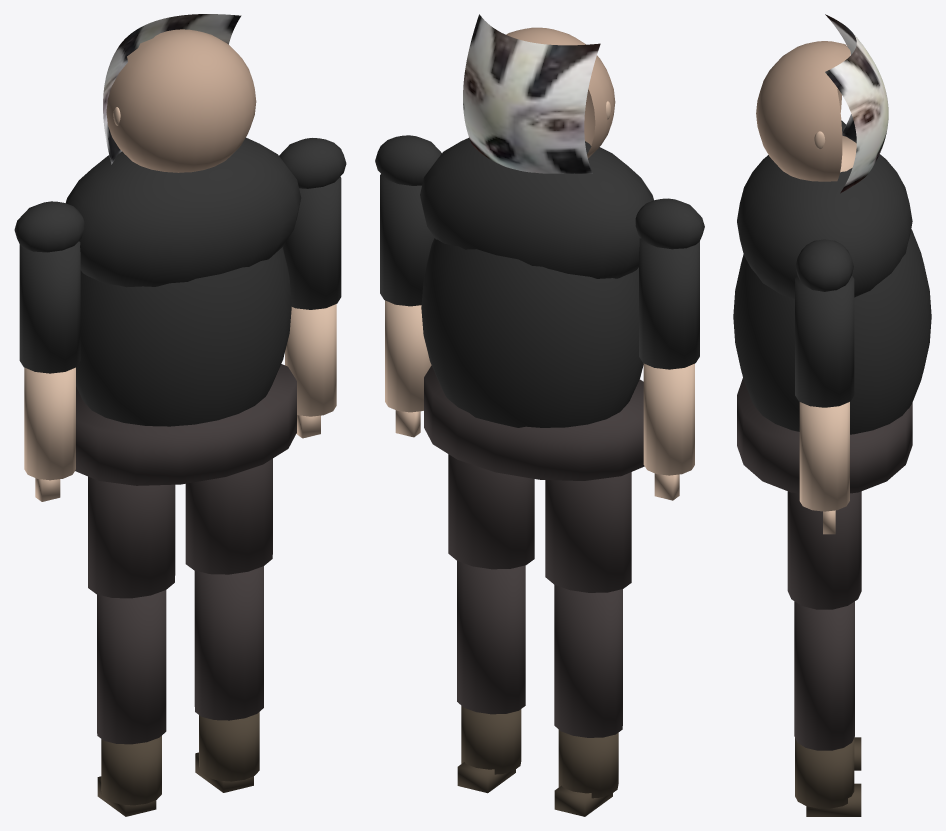
Rendered from villain_fat.glb.
3 views of the same model, side by side, from view 1: azimuth 30°, elevation 25°; view 2: azimuth 150°, elevation 25°; view 3: azimuth 270°, elevation 25° (orthographic). The views are drawn at different scales.
Visible parts, largest first — view 1: villain_fat; view 2: villain_fat; view 3: villain_fat.
Boxes of the visible parts, left/top/right/bottom form: villain_fat: left=14, top=14, right=346, bottom=816; villain_fat: left=375, top=14, right=704, bottom=816; villain_fat: left=733, top=14, right=931, bottom=816.
Size of the model in its own units: 0.8 by 1.79 by 0.4335.
6 materials, 1 textured.
